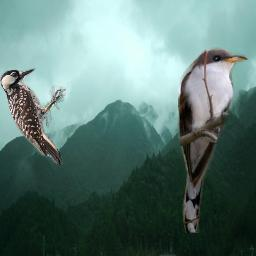Cuckoo: (176, 47, 248, 233)
Woodpecker: (0, 68, 66, 165)
